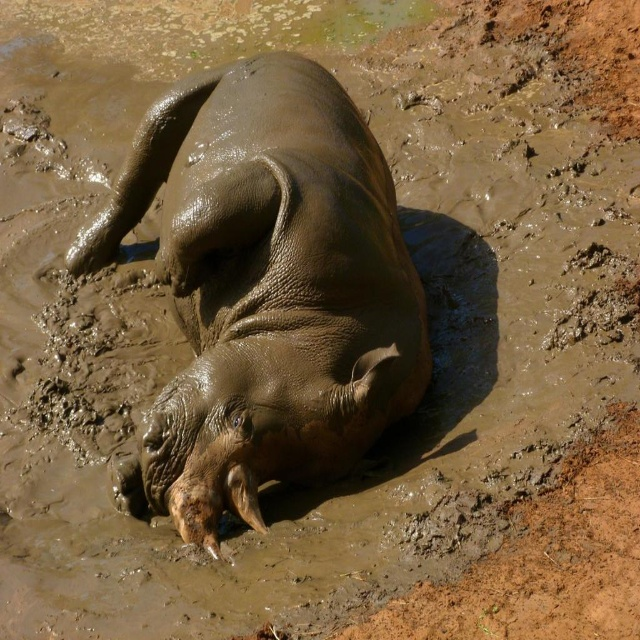Harbor seal: (66, 50, 432, 560)
